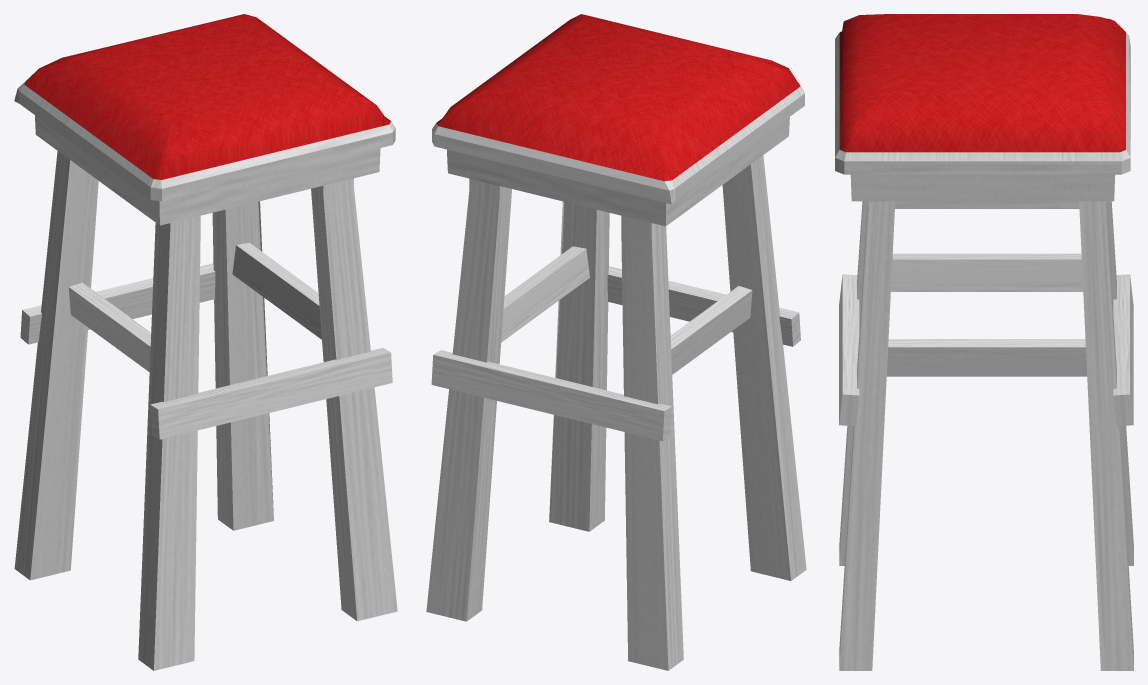
Rendered from Barstool_B_2.FBX.
3 views of the same model, side by side, from view 1: azimuth 30°, elevation 25°; view 2: azimuth 150°, elevation 25°; view 3: azimuth 270°, elevation 25° (orthographic). The views are drawn at different scales.
Parts seen in each view (by area): view 1: Bar_Stool; view 2: Bar_Stool; view 3: Bar_Stool.
Part boxes in pixels (x1,y1,x2,y2): Bar_Stool: (14, 14, 397, 670); Bar_Stool: (426, 14, 806, 670); Bar_Stool: (835, 14, 1133, 670).
Size of the model in its own units: 85.32 by 174 by 84.9.
